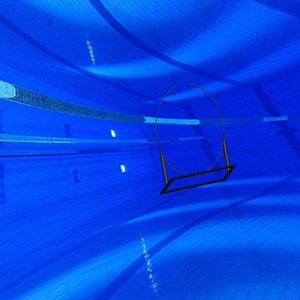circle: (152, 82, 237, 195)
